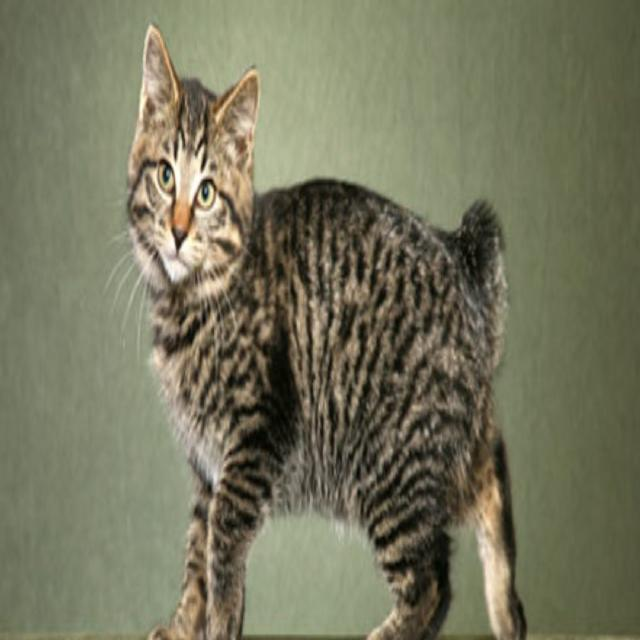American Bobtail: (123, 18, 530, 640)
